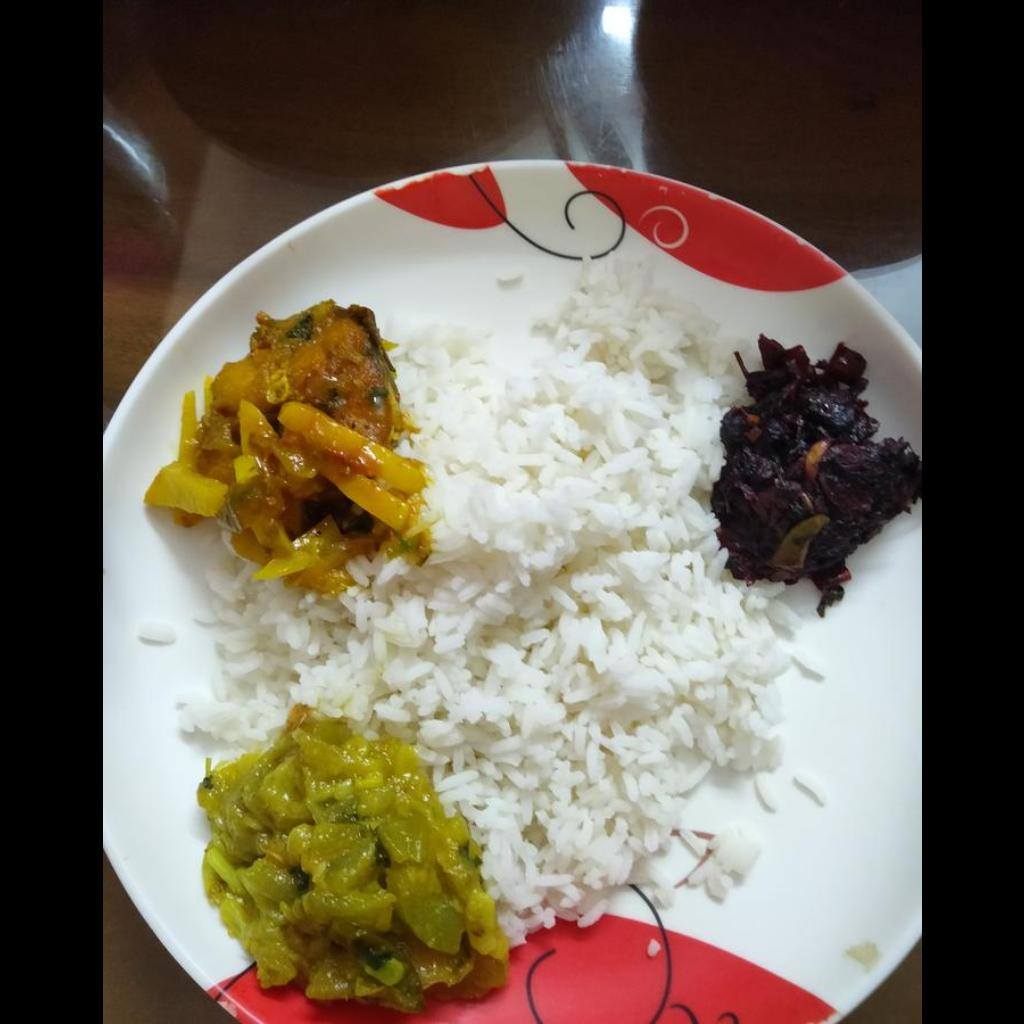fish: (208, 300, 402, 564)
rice: (176, 254, 804, 928)
shak: (717, 332, 918, 622)
vaji: (204, 735, 512, 1004)
